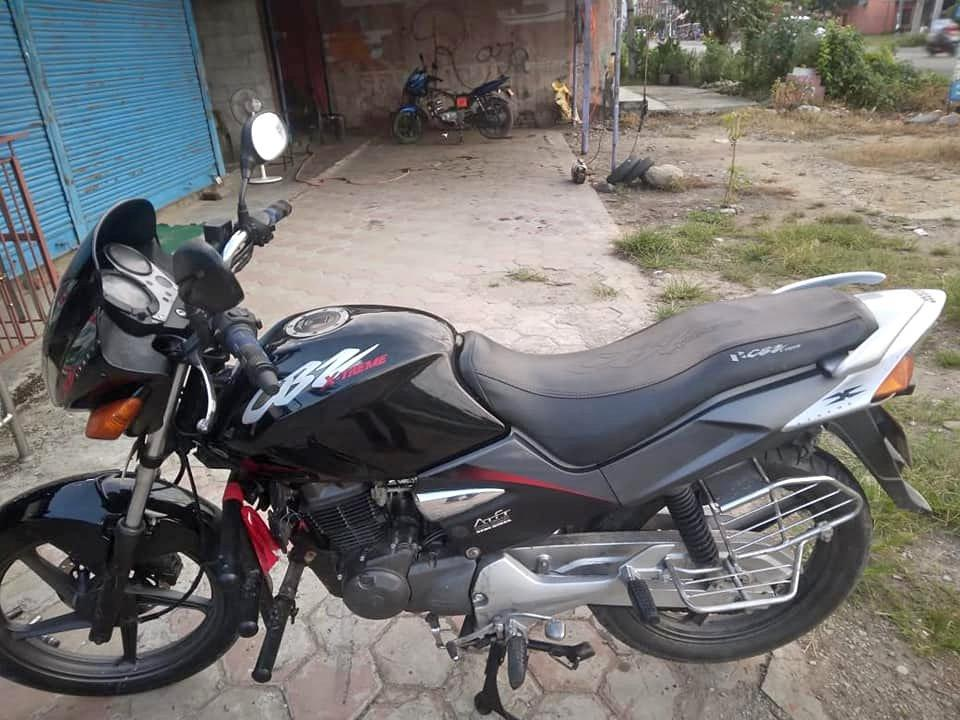bike: (12, 107, 941, 677)
